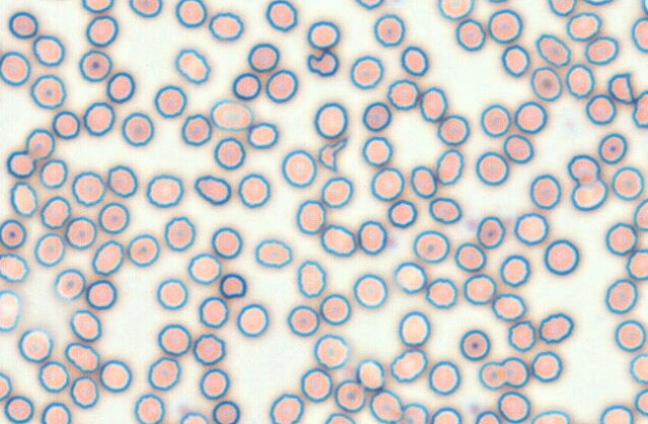RBC: (281, 149, 317, 187), (210, 99, 252, 131), (313, 333, 350, 369), (543, 238, 579, 275), (29, 73, 66, 109), (145, 173, 184, 207), (174, 48, 210, 84), (313, 102, 348, 139), (389, 348, 427, 382), (412, 229, 450, 263), (352, 273, 388, 308), (570, 178, 608, 211), (487, 8, 522, 43), (535, 33, 571, 67), (71, 170, 105, 206), (147, 356, 181, 391), (18, 328, 53, 362), (370, 166, 404, 201), (349, 55, 384, 89), (320, 223, 356, 256), (513, 212, 549, 245), (605, 278, 638, 314), (91, 239, 124, 275), (237, 172, 270, 208), (398, 310, 430, 347), (475, 151, 509, 185), (153, 84, 187, 118), (236, 302, 269, 337), (187, 252, 222, 285), (265, 68, 298, 103), (121, 111, 154, 146), (163, 215, 195, 251), (529, 173, 561, 209), (194, 174, 231, 205), (296, 259, 326, 297), (254, 238, 292, 268), (497, 390, 531, 423), (369, 389, 402, 423), (393, 261, 427, 294), (157, 323, 191, 356), (69, 308, 102, 342), (611, 166, 644, 200), (514, 100, 547, 134), (126, 233, 159, 267), (78, 49, 112, 82), (300, 367, 332, 402), (428, 360, 460, 395), (538, 312, 573, 344), (64, 341, 99, 373), (605, 221, 637, 256), (530, 66, 562, 101), (83, 101, 115, 136), (0, 50, 31, 86), (99, 359, 132, 392), (64, 216, 97, 249), (320, 175, 353, 208), (53, 268, 86, 301), (192, 333, 226, 365), (213, 136, 245, 170), (39, 195, 71, 229), (295, 199, 326, 234), (34, 232, 65, 267), (357, 219, 387, 255), (565, 11, 601, 41), (208, 11, 244, 41), (435, 148, 464, 185), (334, 379, 366, 412), (286, 304, 319, 336), (425, 277, 458, 309), (614, 319, 646, 352), (386, 78, 419, 110), (265, 0, 298, 32), (106, 164, 138, 197), (373, 13, 405, 46), (32, 34, 65, 66), (85, 15, 118, 47), (462, 273, 496, 304), (436, 114, 470, 145), (480, 103, 511, 137), (269, 393, 304, 423), (565, 63, 595, 98), (584, 35, 619, 65), (9, 181, 38, 217), (419, 86, 448, 122), (530, 350, 562, 382), (319, 293, 351, 325), (156, 278, 188, 310), (567, 153, 600, 184), (199, 367, 230, 400), (499, 254, 530, 287), (38, 360, 69, 393), (459, 328, 490, 361), (211, 226, 242, 259), (181, 113, 212, 146), (98, 201, 129, 234), (69, 375, 99, 409), (306, 20, 340, 50), (491, 292, 526, 321), (198, 296, 229, 328), (361, 135, 392, 167), (585, 93, 616, 125), (25, 127, 55, 160), (455, 18, 485, 51), (500, 44, 530, 77), (355, 358, 385, 390), (133, 393, 165, 423), (454, 242, 486, 272), (85, 279, 117, 309), (247, 42, 279, 72), (476, 215, 505, 248), (428, 196, 462, 224), (503, 133, 534, 163), (507, 320, 536, 352), (106, 71, 135, 103), (598, 132, 627, 164), (0, 289, 21, 332), (361, 101, 391, 131), (39, 158, 68, 189), (400, 45, 429, 76), (501, 356, 529, 388), (246, 121, 278, 149), (175, 0, 207, 28), (410, 165, 437, 198), (0, 252, 29, 282), (387, 199, 417, 228), (51, 110, 80, 139), (478, 360, 506, 390), (4, 395, 34, 423), (6, 150, 36, 178), (231, 72, 261, 100), (8, 11, 38, 39), (0, 218, 26, 249), (218, 272, 247, 298), (437, 0, 473, 20), (625, 248, 647, 280), (40, 401, 71, 423), (599, 404, 634, 423), (212, 400, 240, 423), (399, 402, 429, 423), (128, 0, 162, 18), (631, 16, 647, 53), (632, 89, 647, 128), (629, 352, 647, 384), (530, 409, 571, 423), (430, 406, 462, 423), (547, 0, 576, 16), (633, 198, 647, 231), (81, 0, 114, 13), (634, 388, 647, 416), (0, 371, 12, 401), (179, 411, 209, 423), (474, 410, 501, 423), (324, 412, 355, 423), (354, 0, 384, 10), (582, 0, 613, 6), (641, 0, 648, 15), (485, 0, 509, 3)
Schistocyte: (318, 138, 351, 174), (608, 71, 636, 105), (309, 50, 338, 78)
